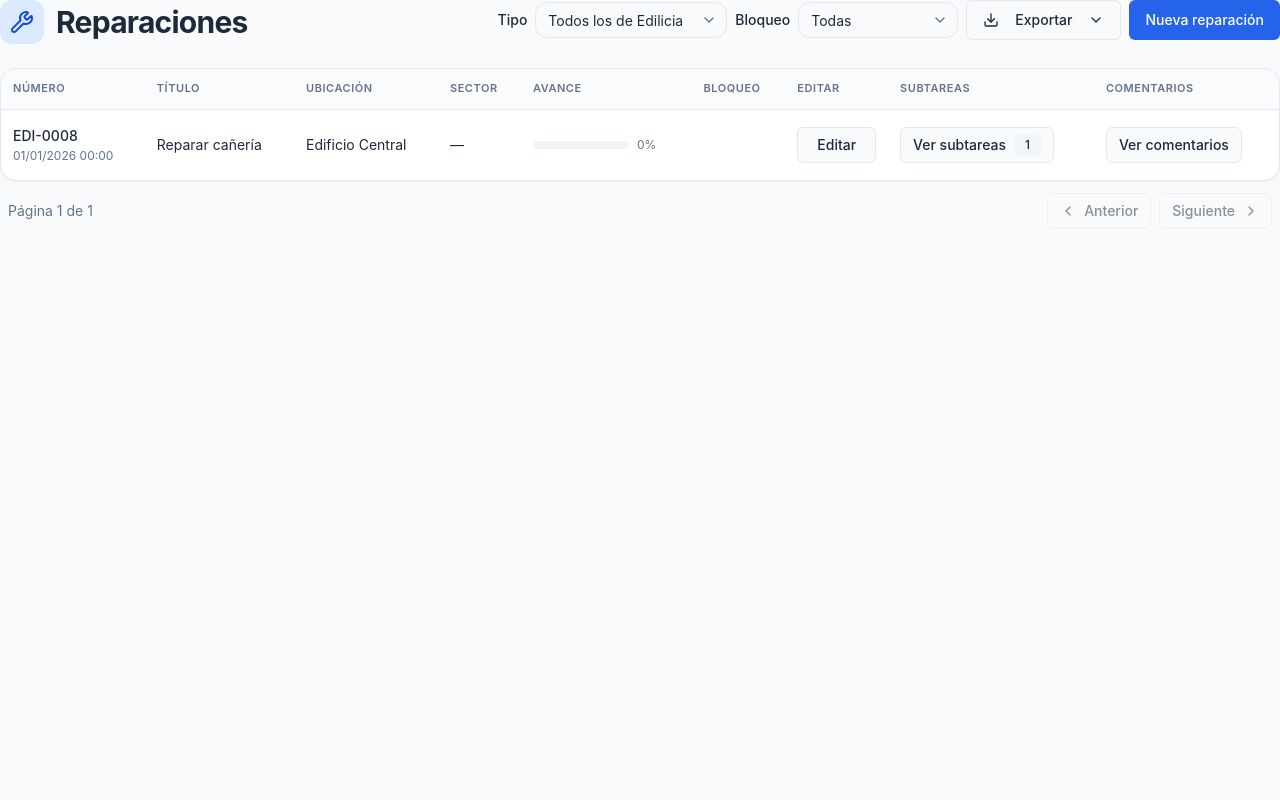
Test: ReparacionesList — cantidad de subtareas en el botón (odd/ubicacion-sector-ticket, CA5) › el botón con badge abre el modal de subtareas
Expected: the text "EDI-0008" is shown, [13, 126, 78, 144]
Click the button with aria-label "Ver subtareas (1 subtarea)": (977, 144) [900, 126, 1054, 162]
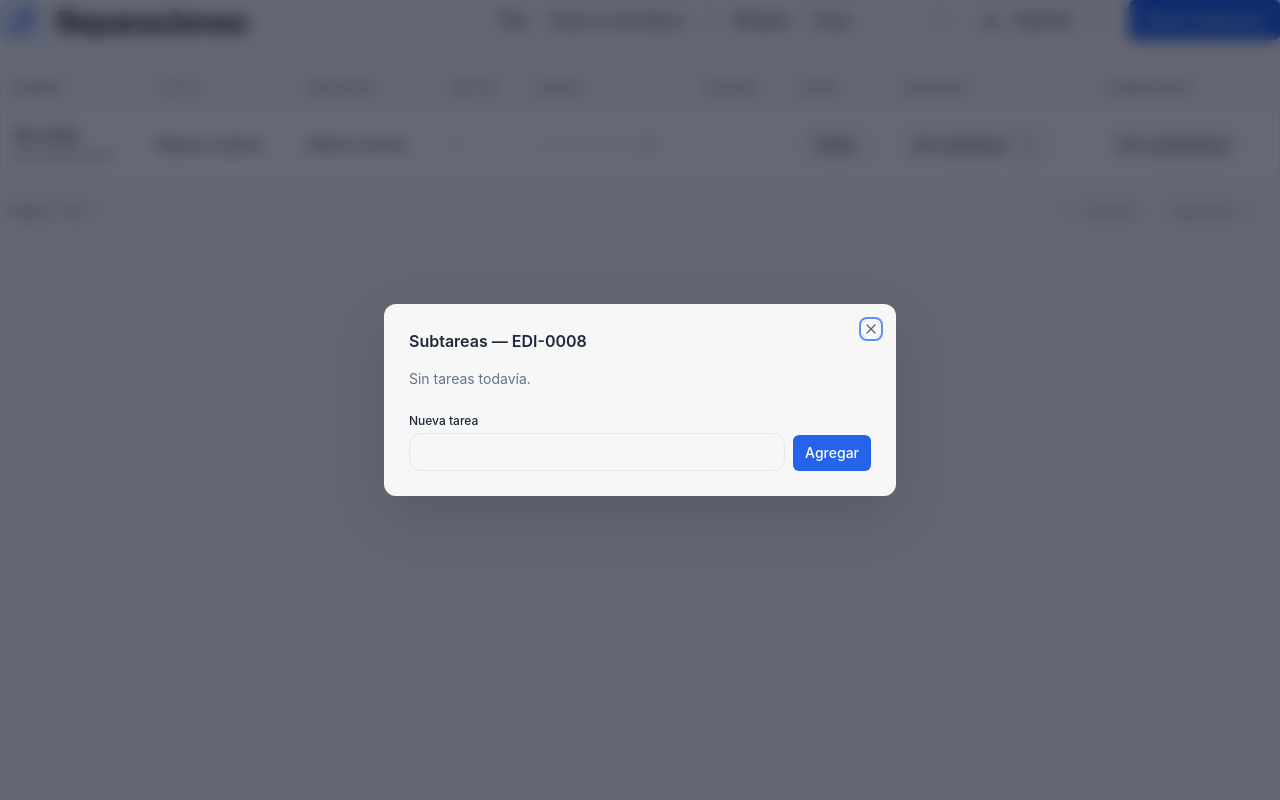
Expected: the heading "Subtareas — EDI-0008" is shown, [409, 331, 587, 351]
